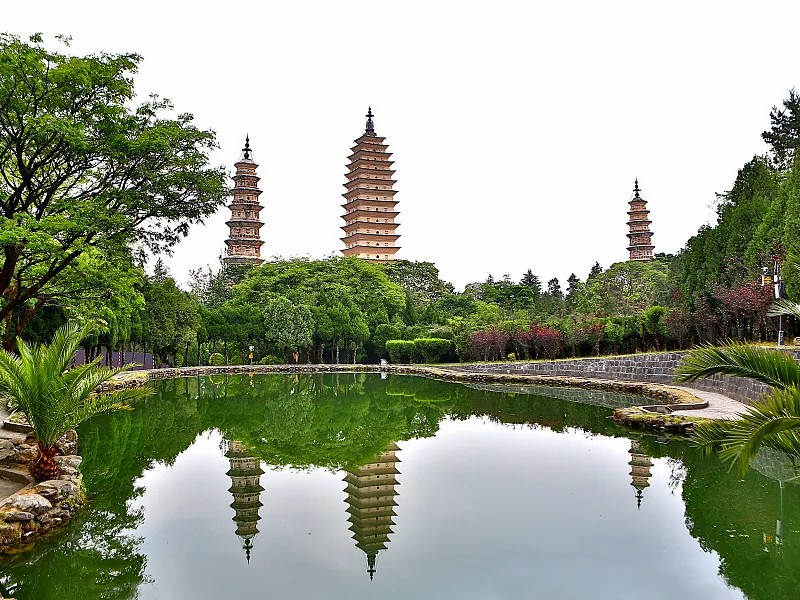ThreePagoda: (340, 107, 401, 263)
